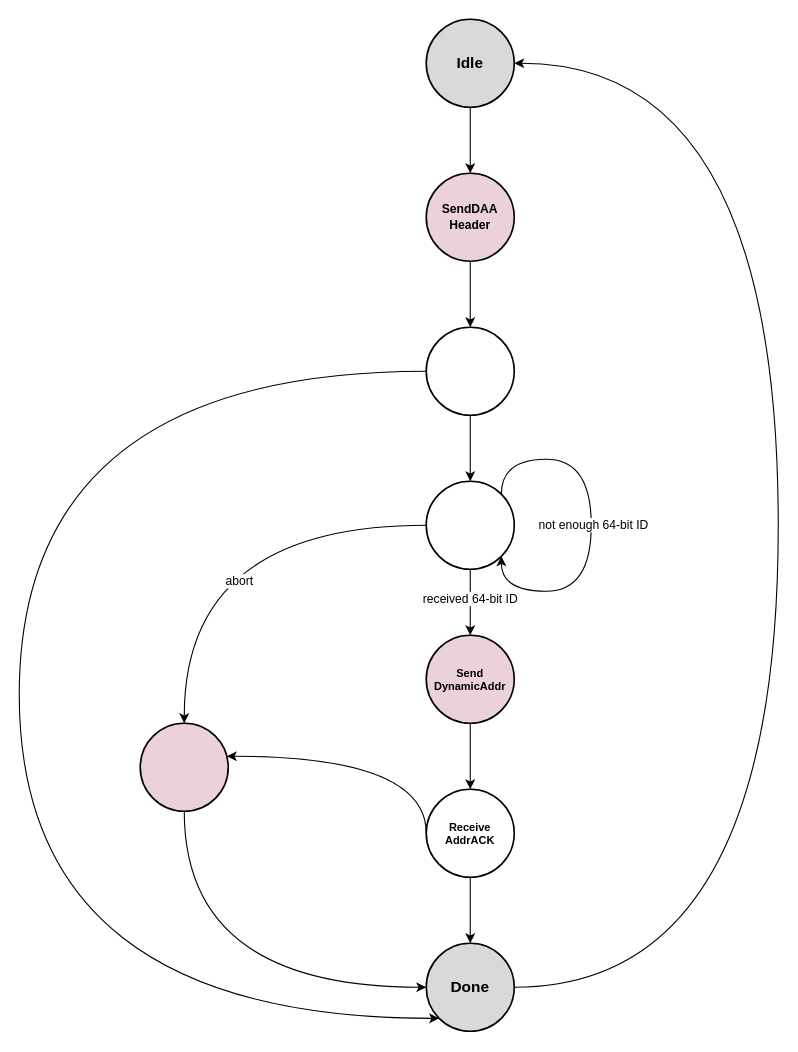
The diagram is 798 pixels wide and 1052 high, and some of its shapes have lost their labels. The shapes that lost their labels are listed below. From the top down, each one's box as (x1, y1, x2, y2) in pixels, then its label:
(425, 326, 515, 416): Receive HeaderACK
(425, 480, 515, 570): ReceiveID
(139, 722, 229, 812): WaitStop
